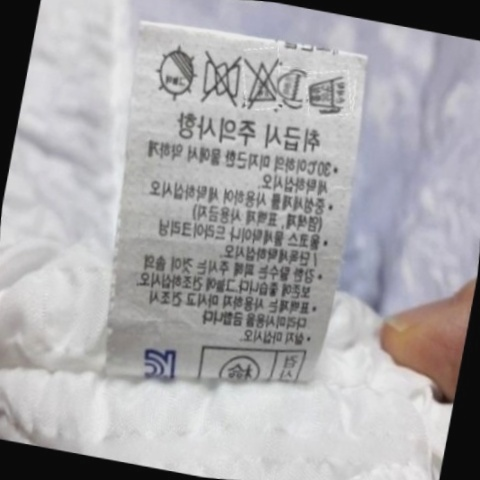DN_wring: (192, 47, 246, 107)
dry_clean: (274, 66, 312, 107)
hand_wash: (301, 65, 355, 117)
non_chlorine_bleach: (239, 52, 285, 110)
shade_dry: (146, 40, 204, 106)
